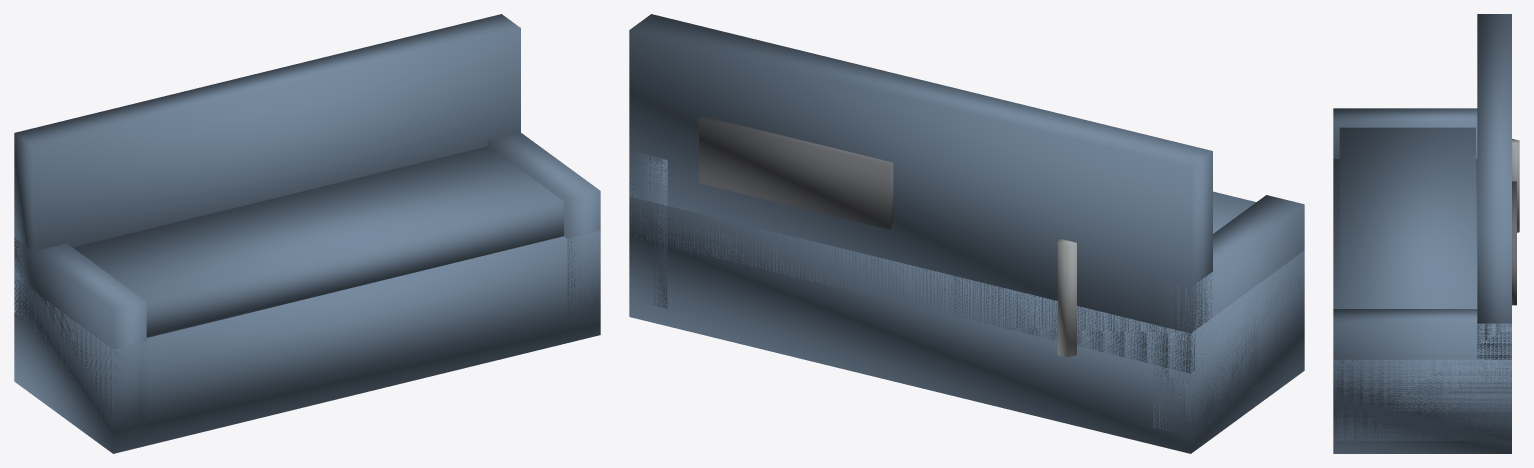
File: sofa__service.glb
3 renders of one model, left to right at view 1: azimuth 30°, elevation 25°; view 2: azimuth 150°, elevation 25°; view 3: azimuth 270°, elevation 25°, orthographic. The views are drawn at different scales.
Visible parts, largest first — view 1: world; view 2: world; view 3: world.
Boxes of the visible parts, <box> form: world: <box>14,14,600,453</box>; world: <box>629,14,1304,453</box>; world: <box>1333,14,1519,453</box>.
Bounding box in the file's own units: 2.05 × 1.03 × 0.7503.
